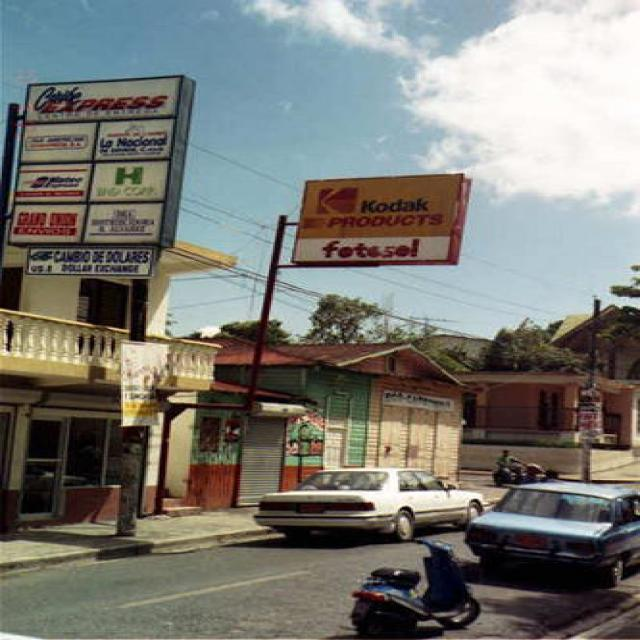motor: (343, 538, 483, 640)
